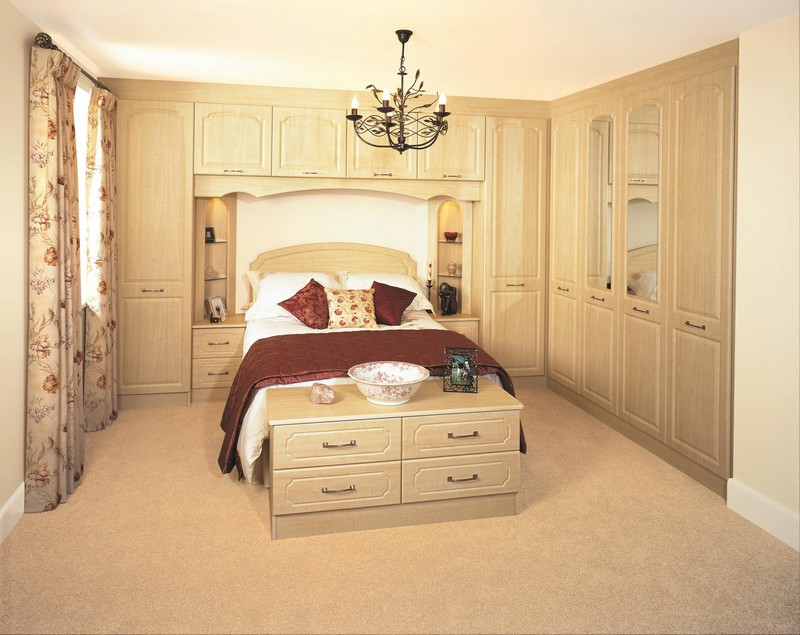bed: (228, 243, 499, 382)
stool: (259, 374, 527, 544)
